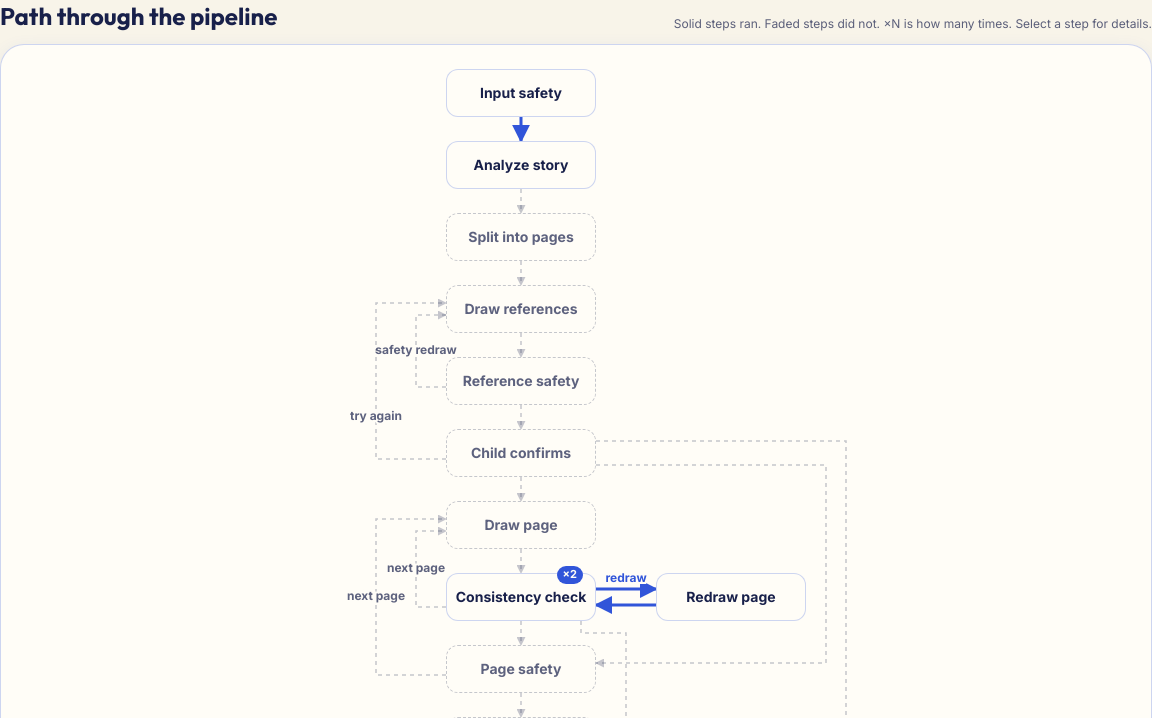
Test case: PipelineGraph › groups recorded checks under one page heading, with attempts and warnings underneath
This screenshot has width=1152, height=718.
Click the button with aria-label "Consistency check, ran 2 times, 1 redraw".
click(521, 597)  # box 446,573 -> 596,621
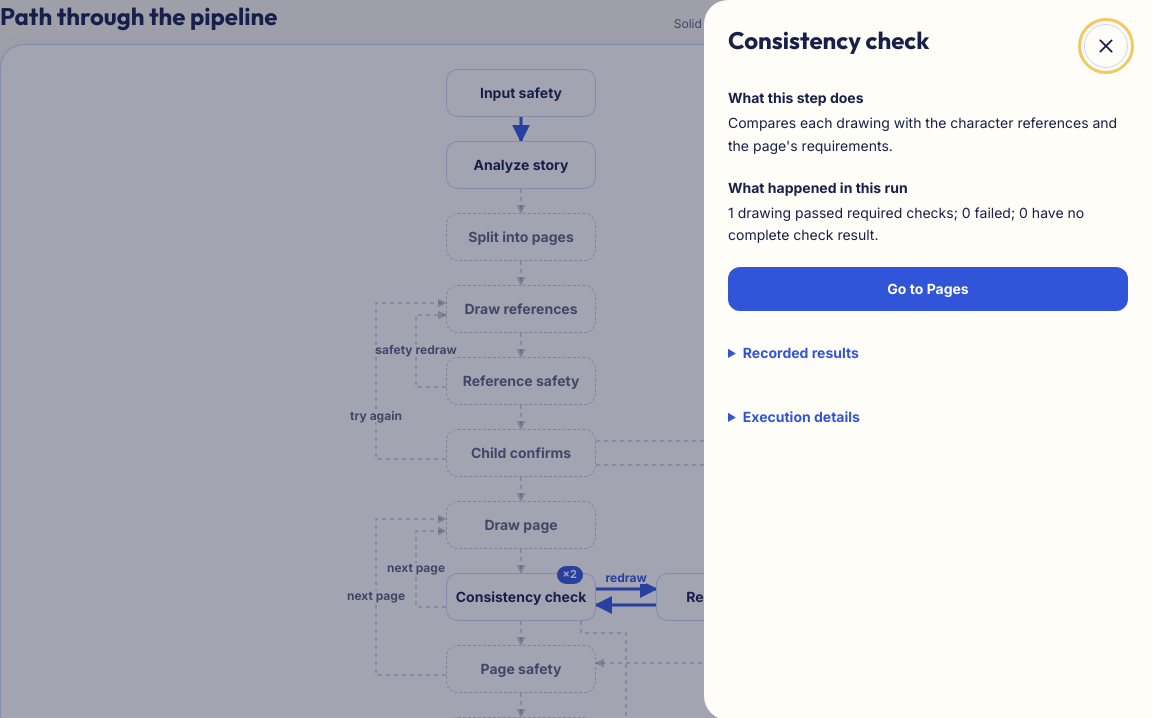
Click the heading "Recorded results".
click(801, 352)  # box 743,344 -> 859,361
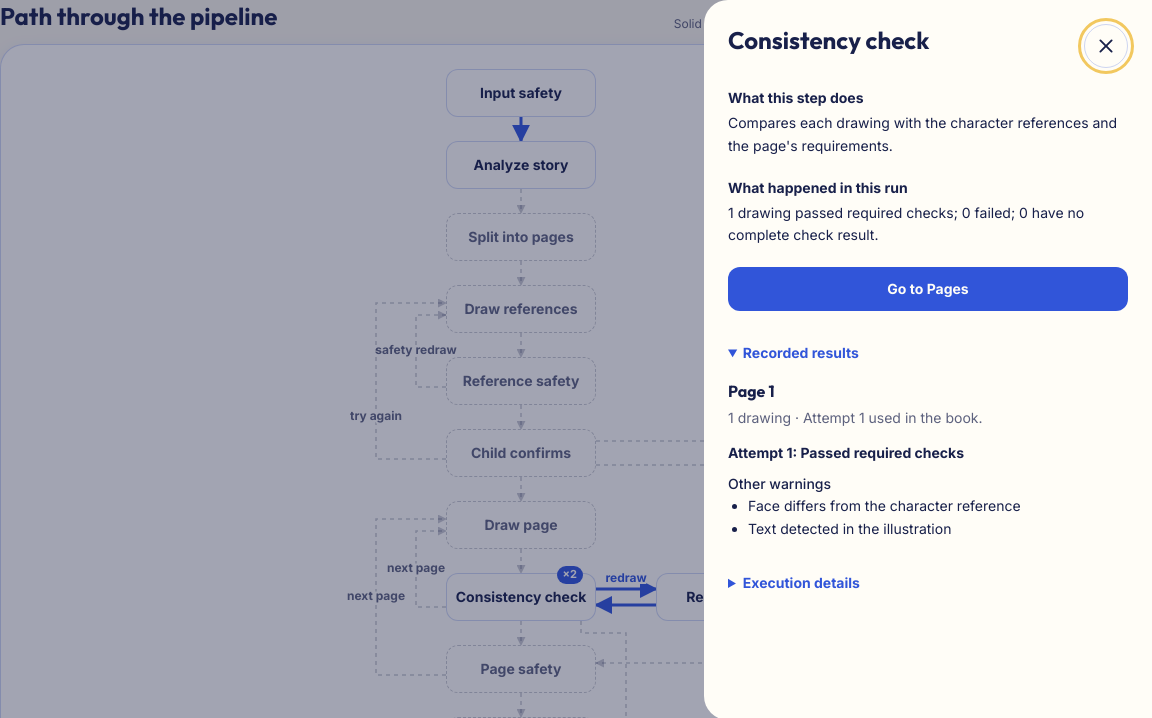
Now the number of headings "Page 1" is 1, box 728,381 -> 774,401
Now the text "1 drawing · Attempt 1 used in the book." is shown, box 728,409 -> 982,426
Now the text "Attempt 1: Passed required checks" is shown, box 728,444 -> 964,461
